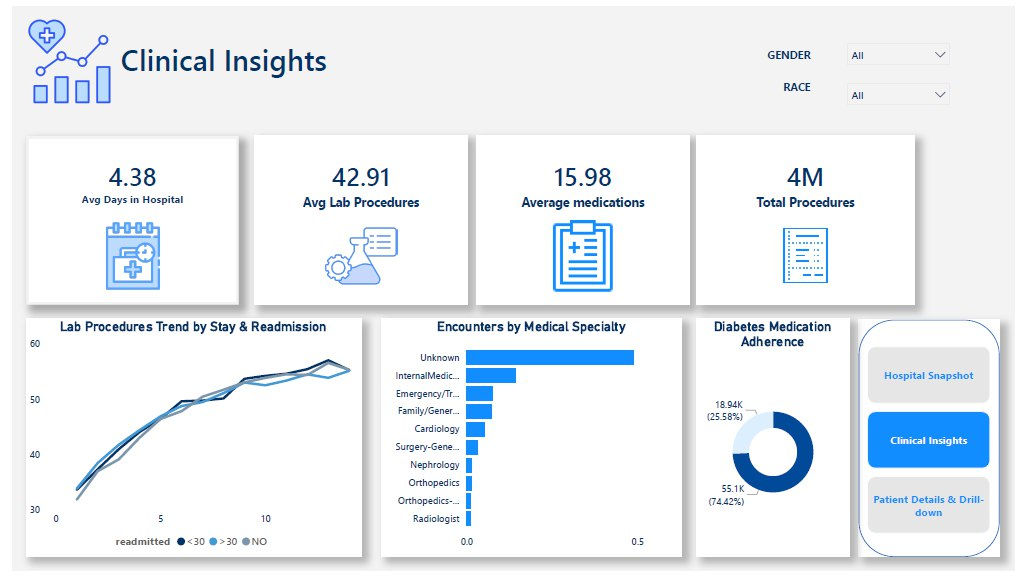

What the dashboard file says about the page in this screenshot:
{"tool":"powerbi","page":{"name":"Clinical Insights","canvas":[1280,720],"ordinal":1},"visuals":[{"type":"cardVisual","title":"Total Patient Encounters","fields":{"Data":["Table.Avg Days in Hospital"]},"box":[16.8,164.6,272.1,216.7],"z":0},{"type":"shape","box":[1081.4,399.8,180,303.3],"z":0,"group":"g1"},{"type":"cardVisual","fields":{"Data":["Table.Avg Lab Procedures"]},"box":[309,164.4,272.1,216.9],"z":1000},{"type":"cardVisual","fields":{"Data":["Avg(hospital_project hospital_clean.num_medications)"]},"box":[592.4,164.4,272.1,216.9],"z":2000},{"type":"cardVisual","fields":{"Data":["Sum(hospital_project hospital_clean.num_lab_procedures)"]},"box":[874.5,164.4,277.8,216.9],"z":3000},{"type":"lineChart","title":"Lab Procedures Trend by Stay & Readmission","fields":{"Series":["hospital_project hospital_clean.readmitted"],"Category":["hospital_project hospital_clean.time_in_hospital"],"Y":["Avg(hospital_project hospital_clean.num_lab_procedures)"]},"box":[17,398.3,428,303.3],"z":4000},{"type":"clusteredBarChart","title":"Encounters by Medical Specialty","fields":{"Category":["hospital_project hospital_clean.specialty"],"Y":["Table.% of Total Encounters"]},"box":[470.6,398.3,384.1,303.3],"z":5000},{"type":"slicer","fields":{"Values":["hospital_project hospital_clean.gender"]},"box":[1055.9,36.9,151.7,51],"z":6000},{"type":"slicer","fields":{"Values":["hospital_project hospital_clean.race"]},"box":[1055.9,87.9,151.7,48.2],"z":7000},{"type":"textbox","box":[966.6,87.9,70.9,36.9],"z":8000},{"type":"textbox","box":[946.8,46.8,90.7,29.8],"z":9000},{"type":"textbox","box":[133.2,36.9,721.4,73.7],"z":10000},{"type":"image","box":[0,11.3,143.1,117.6],"z":11000},{"type":"group","id":"g1","title":"Group 1","box":[1081.4,399.8,180,303.3],"z":12000},{"type":"donutChart","title":"Diabetes Medication Adherence","fields":{"Category":["hospital_project hospital_clean.diabetesMed"],"Y":["Count(hospital_project hospital_clean.patient_nbr)"]},"box":[874.5,398.3,194.2,303.3],"z":13000},{"type":"pageNavigator","box":[1092.1,434.1,157.3,239.5],"z":13000,"group":"g1"}]}

Visuals, with their boxes in screenshot pixels (x1, y1, x2, y2), scaled from the page's 1280x720 canvas onto the 1022x581 screenshot:
"Total Patient Encounters" cardVisual: (left=13, top=133, right=231, bottom=308)
shape: (left=863, top=323, right=1007, bottom=567)
cardVisual - Table.Avg Lab Procedures: (left=247, top=133, right=464, bottom=308)
cardVisual - Avg(hospital_project hospital_clean.num_medications): (left=473, top=133, right=690, bottom=308)
cardVisual - Sum(hospital_project hospital_clean.num_lab_procedures): (left=698, top=133, right=920, bottom=308)
"Lab Procedures Trend by Stay & Readmission" lineChart: (left=14, top=321, right=355, bottom=566)
"Encounters by Medical Specialty" clusteredBarChart: (left=376, top=321, right=682, bottom=566)
slicer - hospital_project hospital_clean.gender: (left=843, top=30, right=964, bottom=71)
slicer - hospital_project hospital_clean.race: (left=843, top=71, right=964, bottom=110)
textbox: (left=772, top=71, right=828, bottom=101)
textbox: (left=756, top=38, right=828, bottom=62)
textbox: (left=106, top=30, right=682, bottom=89)
image: (left=0, top=9, right=114, bottom=104)
"Group 1" group: (left=863, top=323, right=1007, bottom=567)
"Diabetes Medication Adherence" donutChart: (left=698, top=321, right=853, bottom=566)
pageNavigator: (left=872, top=350, right=998, bottom=544)
